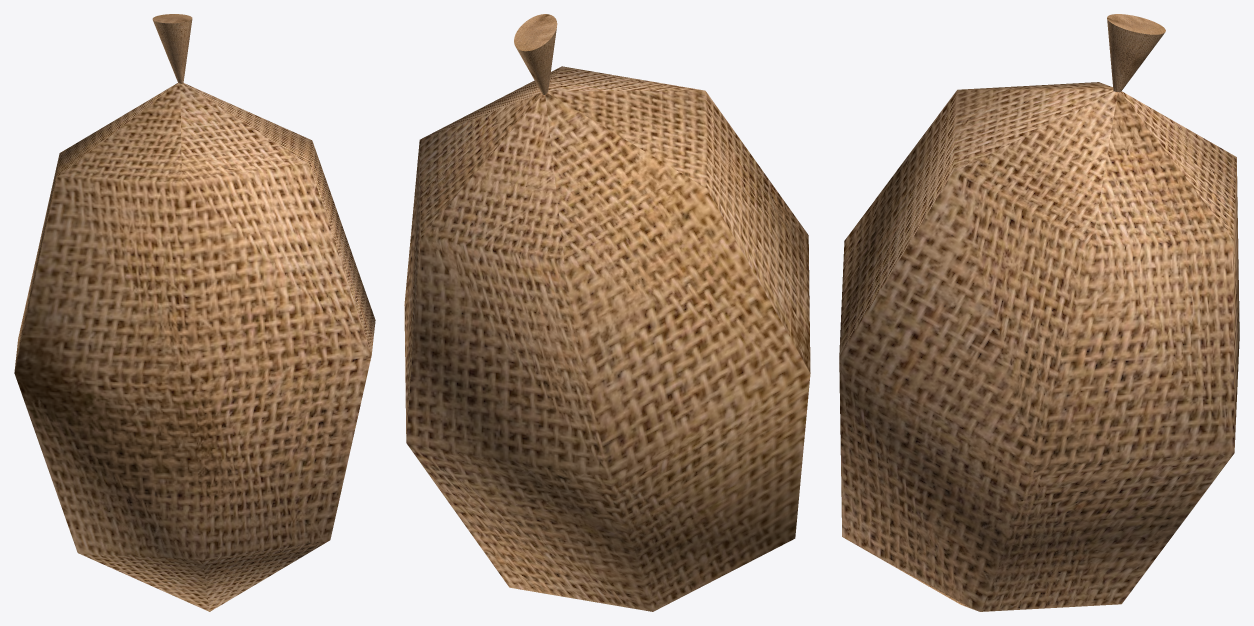
The model's file is sack.glb.
3 views of the same model, side by side, from view 1: azimuth 30°, elevation 25°; view 2: azimuth 150°, elevation 25°; view 3: azimuth 270°, elevation 25° (orthographic). The views are drawn at different scales.
Visible parts, largest first — view 1: sphere, cone; view 2: sphere, cone; view 3: sphere, cone.
Boxes of the visible parts, box(x1,y1,x2,y2) form: sphere: box(14, 83, 375, 611); cone: box(152, 14, 192, 84); sphere: box(404, 66, 810, 611); cone: box(514, 14, 557, 94); sphere: box(839, 82, 1239, 611); cone: box(1107, 14, 1165, 92).
Size of the model in its own units: 1.99 by 2.85 by 1.7.
Materials: 2 (2 with a texture image).
